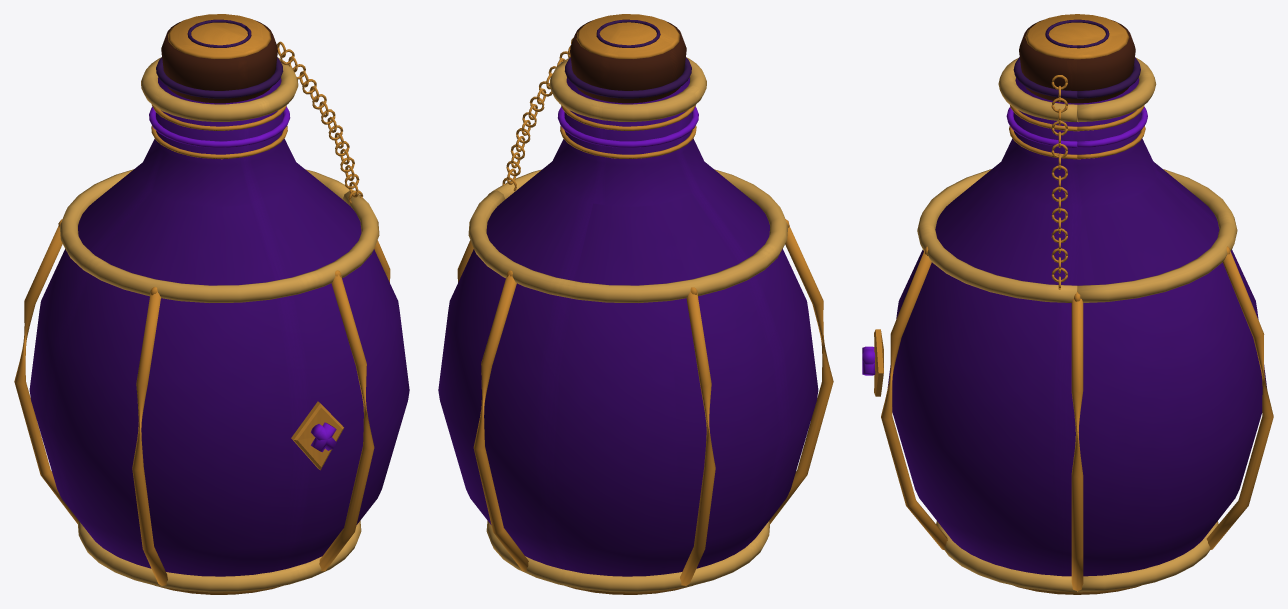
The model's file is SM_nova_flask_LOD1.fbx.
The picture shows the model from 3 angles, left to right: view 1: azimuth 30°, elevation 25°; view 2: azimuth 150°, elevation 25°; view 3: azimuth 270°, elevation 25°; orthographic projection.
Parts seen in each view (by area): view 1: SM_nova_flask_LOD1; view 2: SM_nova_flask_LOD1; view 3: SM_nova_flask_LOD1.
Boxes of the visible parts, x1,y1,x2,y2 form: SM_nova_flask_LOD1: (14, 14, 409, 594); SM_nova_flask_LOD1: (438, 14, 833, 594); SM_nova_flask_LOD1: (862, 14, 1273, 594).
Bounding box in the file's own units: 0.678 × 0.704 × 0.9901.
